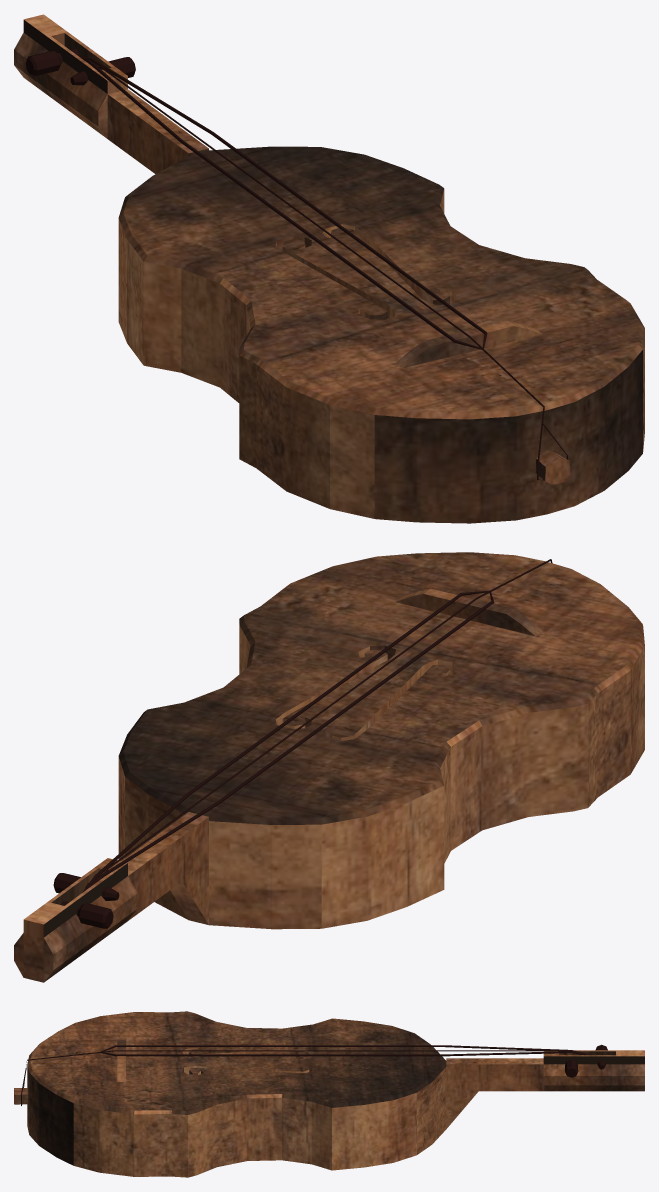
File: kitiar.glb
The picture shows the model from 3 angles, top to bottom: view 1: azimuth 30°, elevation 25°; view 2: azimuth 150°, elevation 25°; view 3: azimuth 270°, elevation 25°; orthographic projection. The views are drawn at different scales.
Parts seen in each view (by area): view 1: kitiar, Cylinder.002, Cylinder, parte2; view 2: kitiar, Cylinder.002, Cylinder, parte2; view 3: kitiar, Cylinder.002, Cylinder.
Part boxes in pixels (box(x1,y1,x2,y2)): kitiar: box(14, 14, 644, 523); Cylinder.002: box(77, 55, 487, 349); Cylinder: box(99, 66, 567, 480); parte2: box(25, 49, 79, 76); kitiar: box(14, 552, 644, 982); Cylinder.002: box(82, 590, 494, 892); Cylinder: box(102, 559, 552, 878); parte2: box(61, 901, 113, 928); kitiar: box(14, 1011, 644, 1177); Cylinder.002: box(100, 1045, 593, 1056); Cylinder: box(21, 1050, 567, 1105).
Size of the model in its own units: 1.19 by 0.4087 by 3.09.
Materials: 2 (1 with a texture image).
